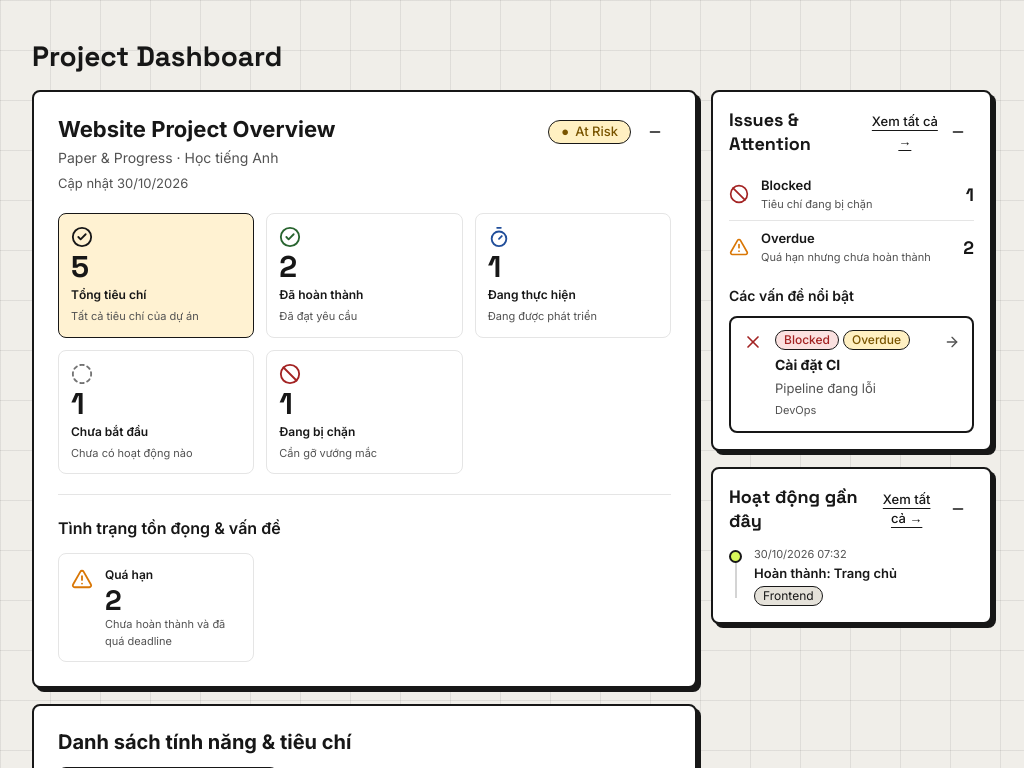
Module B: issues › Xem tất cả loads the full list
Expected: the heading "Website Project Overview" is shown, [58,116,335,143]
What coordinates should you click on to do the following:
click the button "Xem tất cả →" next to "Issues & Attention"
I would click on:
 (905, 132)
Its box is [872,112,938,151].
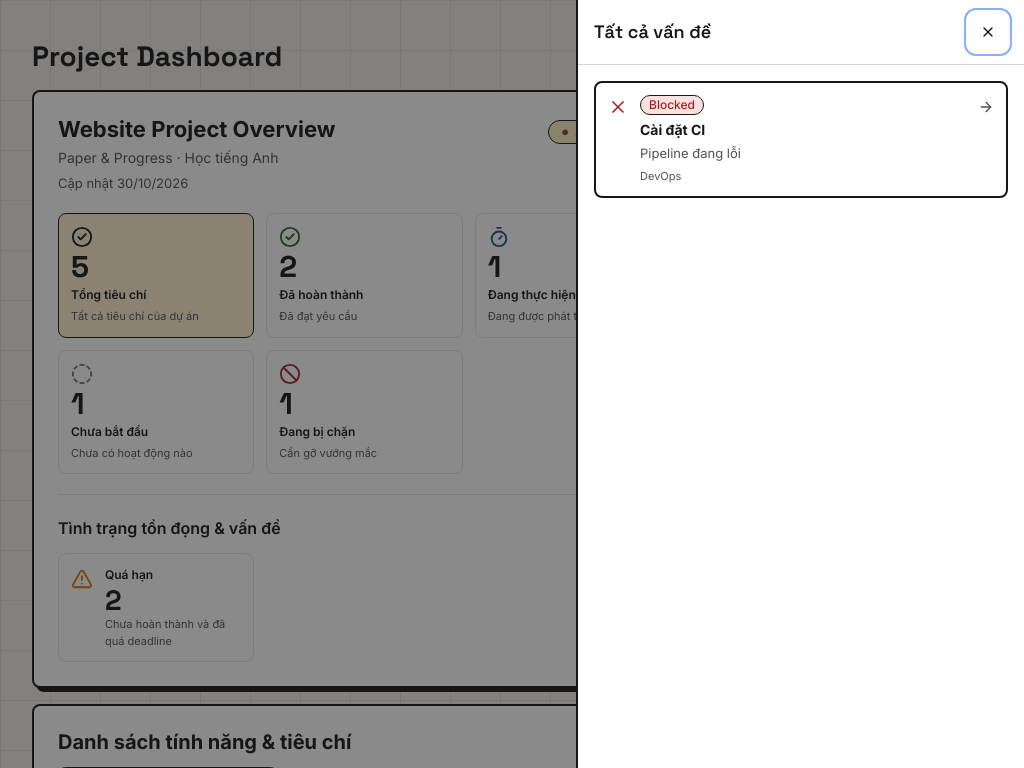
Expected: the dialog "Tất cả vấn đề" is shown, [576,0,1023,767]
